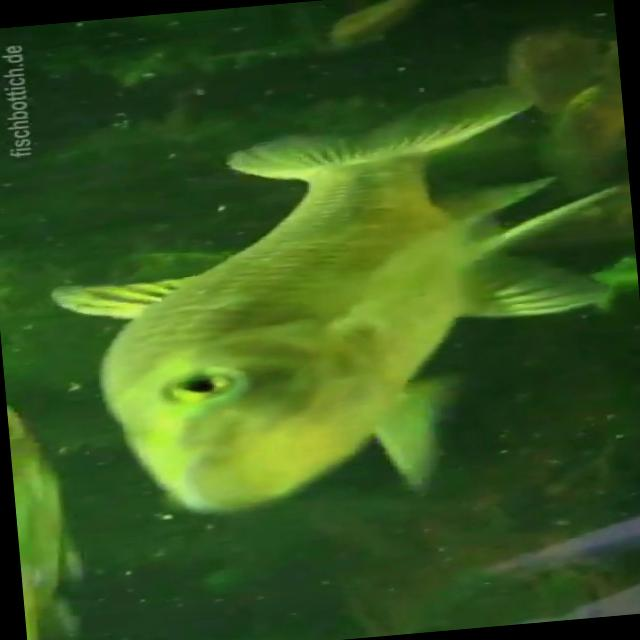Cakil Baligi: (27, 69, 625, 537)
